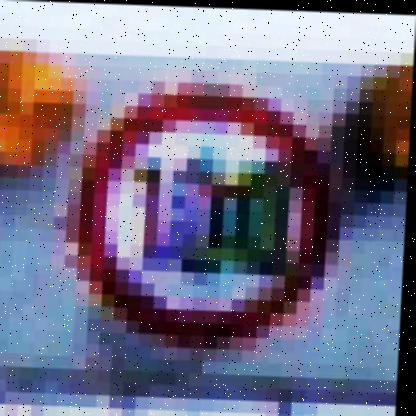Speed Limit -100-: (63, 74, 350, 360)
